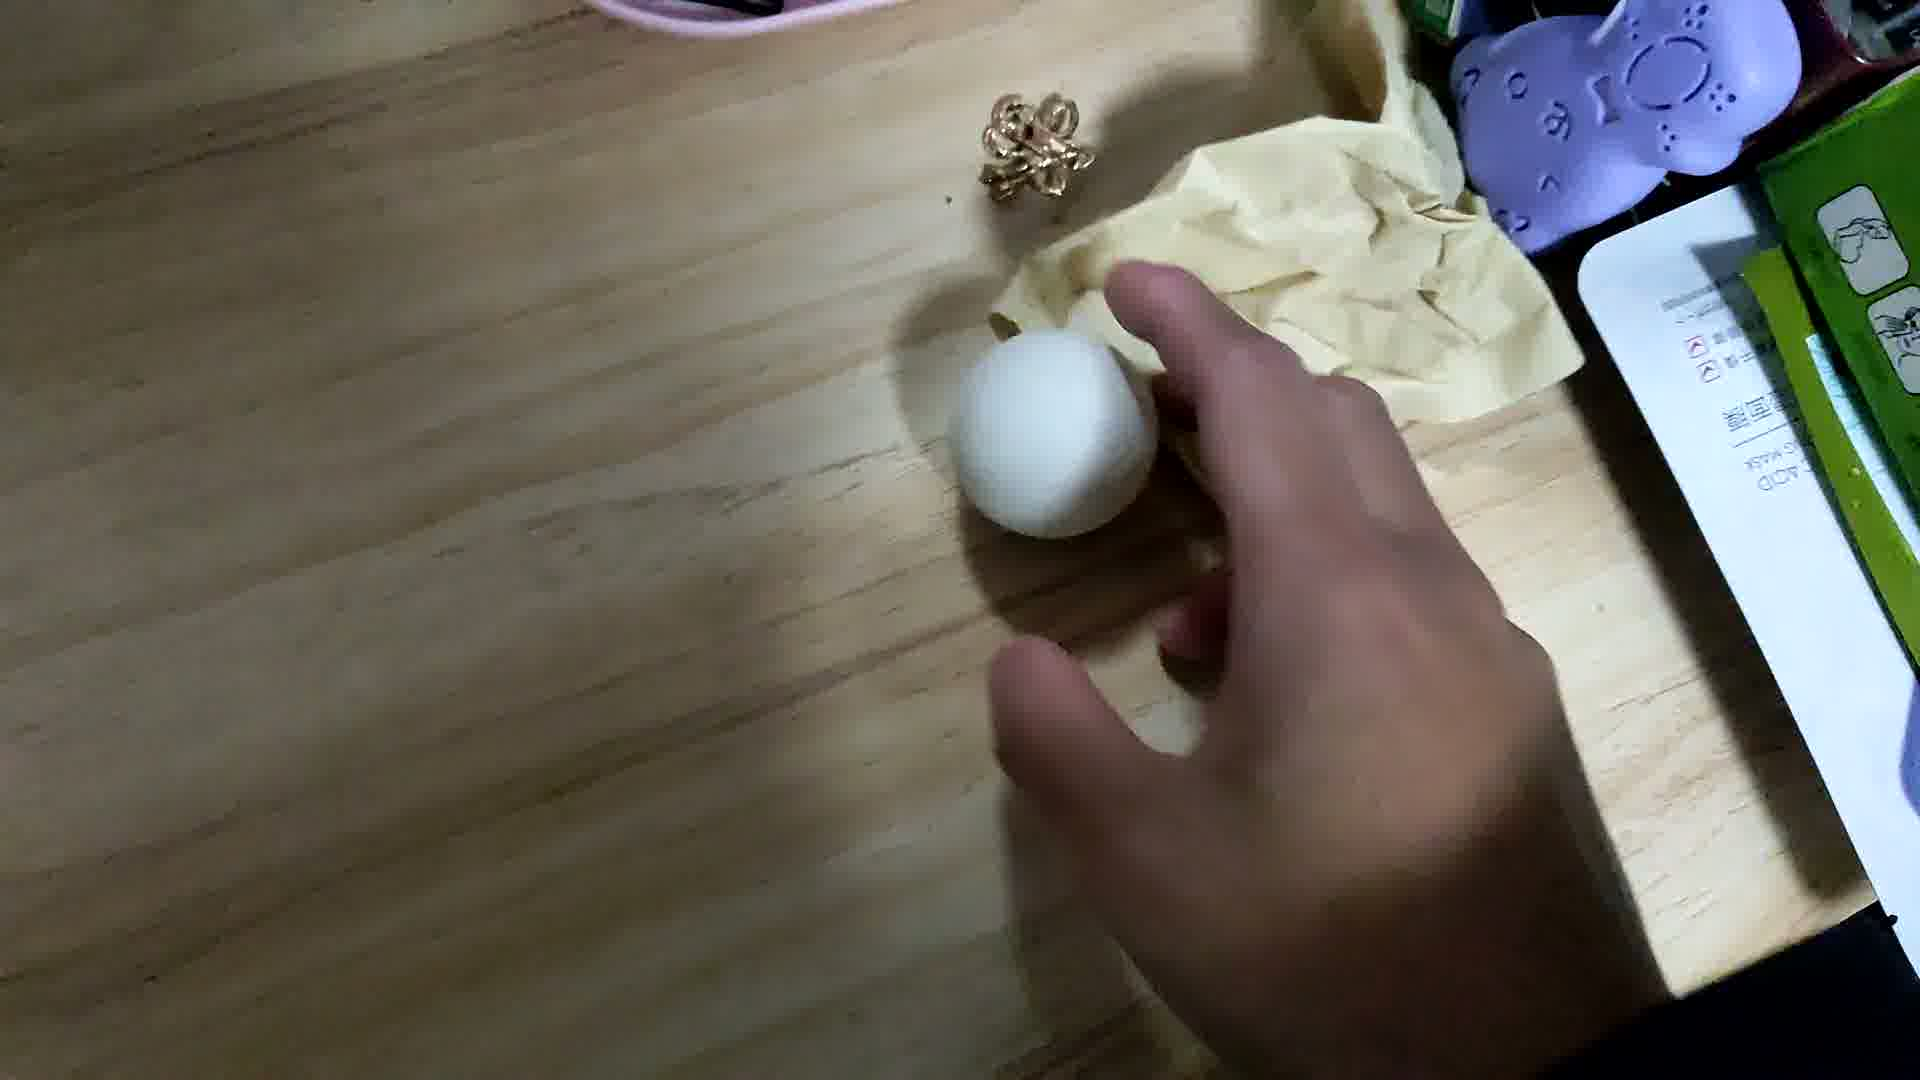Ball: (938, 324, 1167, 550)
